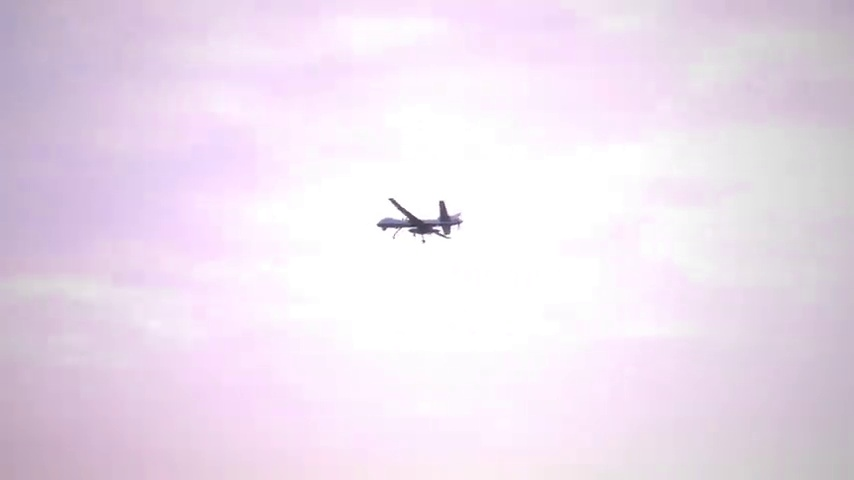military drone: (376, 198, 463, 242)
